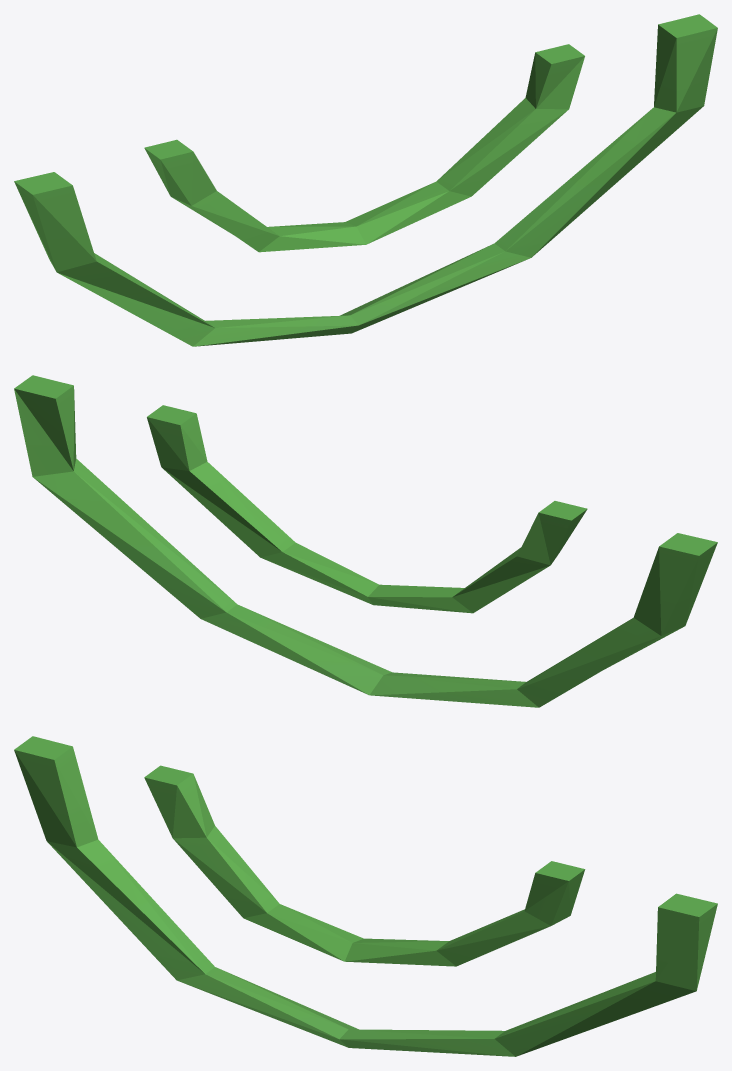
Rendered from vine_drape.glb.
3 renders of one model, top to bottom at view 1: azimuth 30°, elevation 25°; view 2: azimuth 150°, elevation 25°; view 3: azimuth 330°, elevation 25°, orthographic.
Parts seen in each view (by area): view 1: Vine_A_7; view 2: Vine_A_7; view 3: Vine_A_7.
Boxes of the visible parts, <box> form: Vine_A_7: <box>14,14,717,346</box>; Vine_A_7: <box>14,375,717,707</box>; Vine_A_7: <box>14,736,717,1056</box>.
Size of the model in its own units: 2.4 by 0.76 by 0.14.
Materials: 1 (1 with a texture image).
